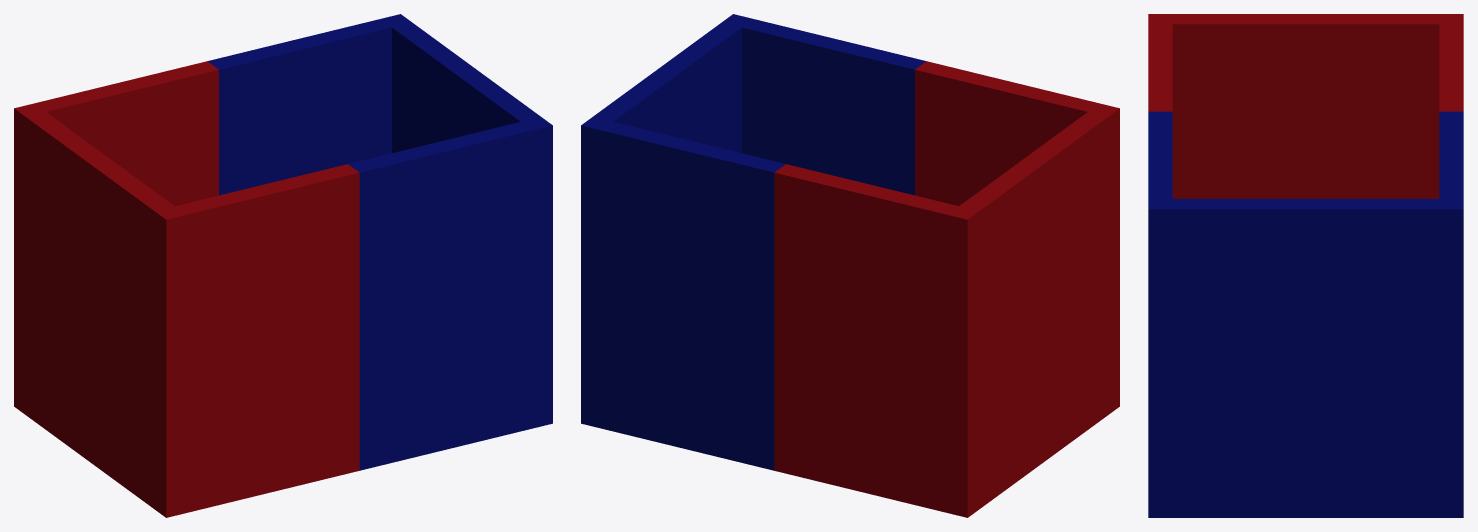
The model's file is Part1 Map.fbx.
The picture shows the model from 3 angles, left to right: view 1: azimuth 30°, elevation 25°; view 2: azimuth 150°, elevation 25°; view 3: azimuth 270°, elevation 25°; orthographic projection. The views are drawn at different scales.
Parts seen in each view (by area): view 1: Map; view 2: Map; view 3: Map.
Boxes of the visible parts, <box> form: Map: <box>14,14,552,517</box>; Map: <box>581,14,1119,517</box>; Map: <box>1148,14,1463,517</box>.
Bounding box in the file's own units: 1900 × 1411 × 1296.
